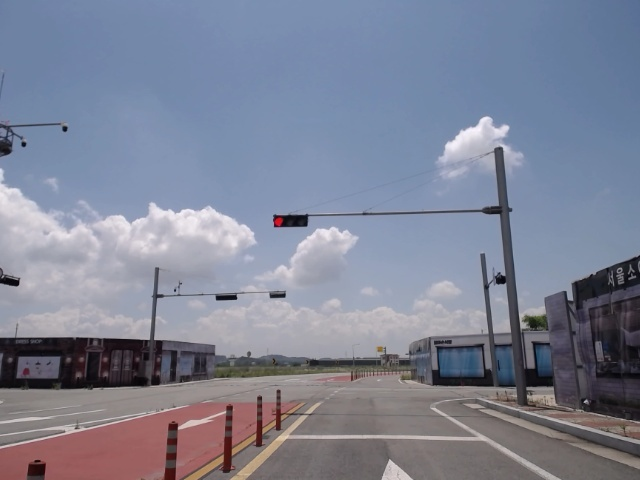red_3: (273, 216, 308, 227)
